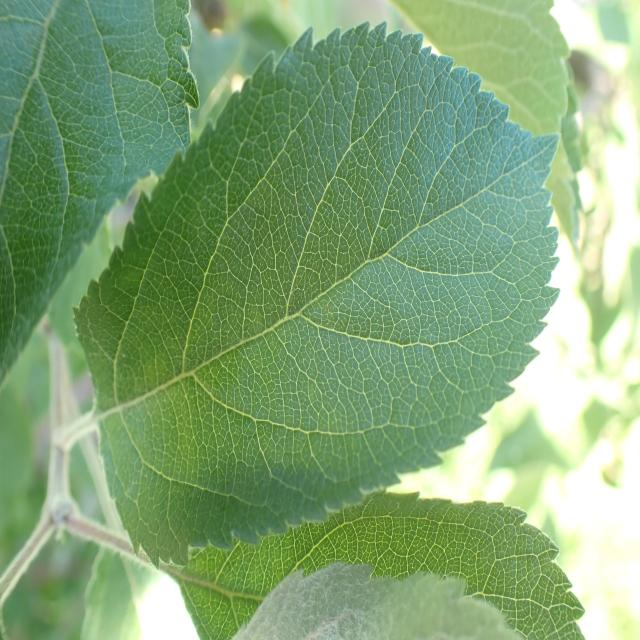healthy: (71, 20, 562, 567), (0, 0, 201, 394), (184, 490, 587, 640), (388, 1, 572, 168)
